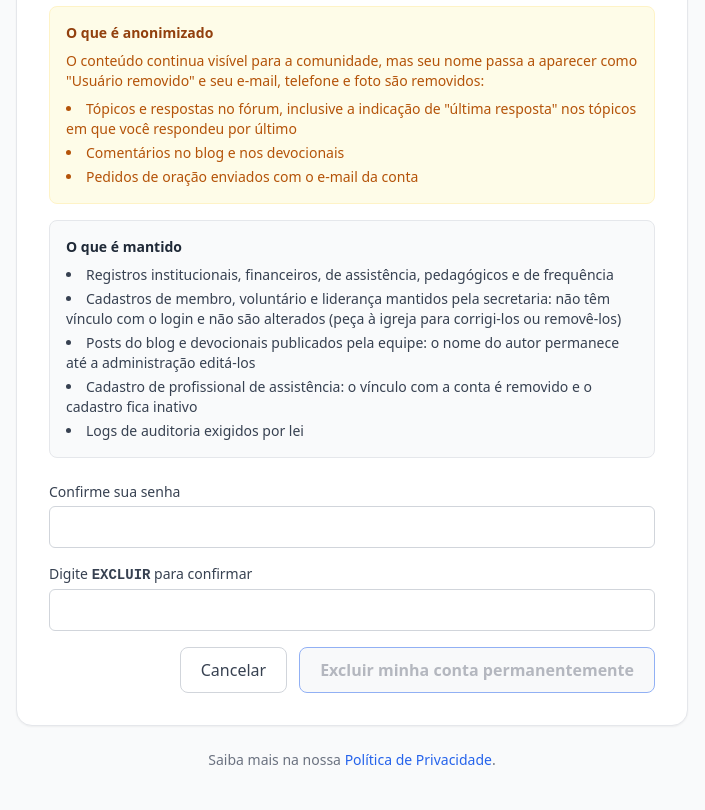
Test: DeleteAccountPage › shows a wrong-password error and does not delete
(page scrolled)
Type "bad" into the password field labelled "Confirme sua senha" at (352, 527), box [49, 506, 655, 548]
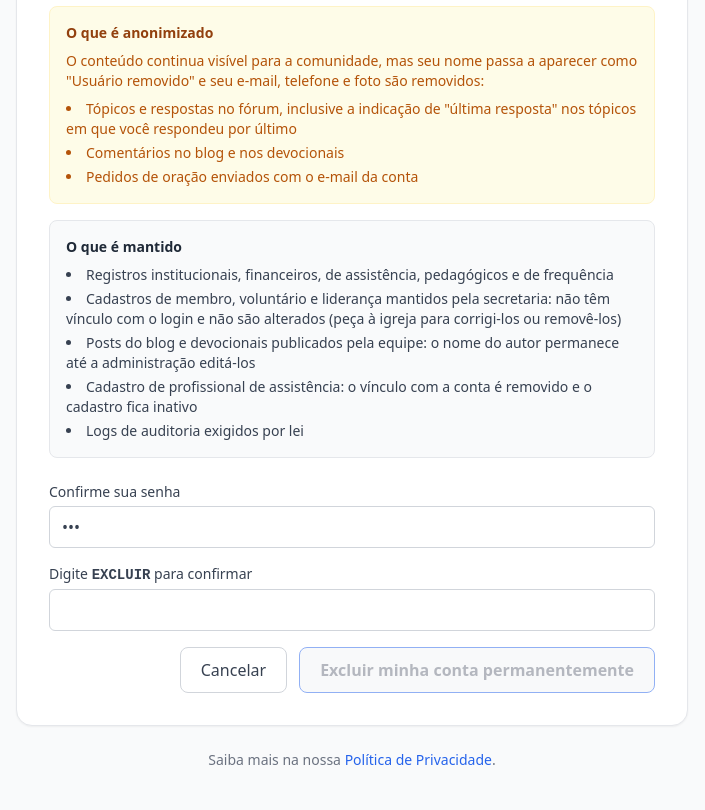
Type "EXCLUIR" into the field labelled "Digite EXCLUIR para confirmar" at (352, 610), box [49, 589, 655, 631]
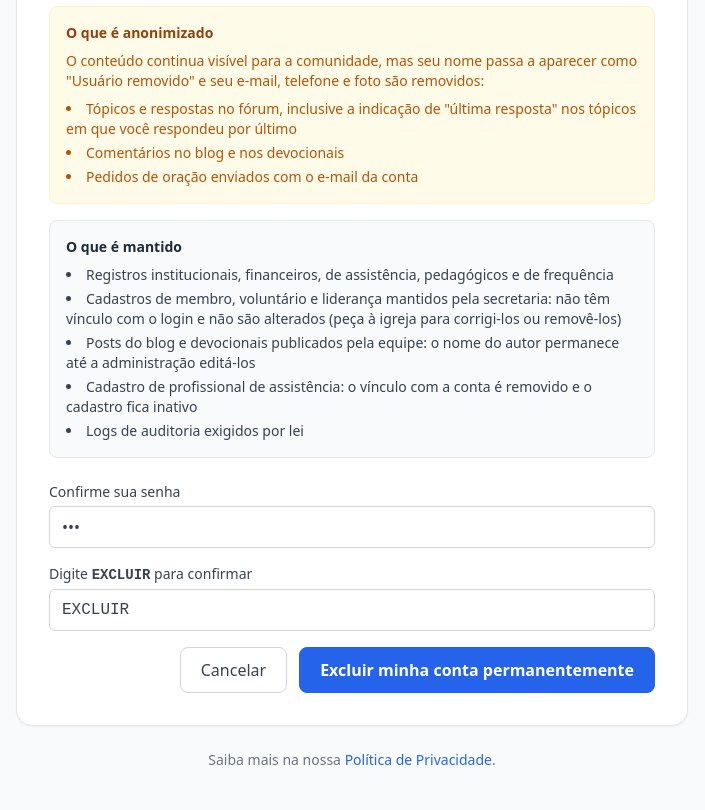
Click the button "Excluir minha conta permanentemente" at (477, 670), box [299, 647, 655, 693]
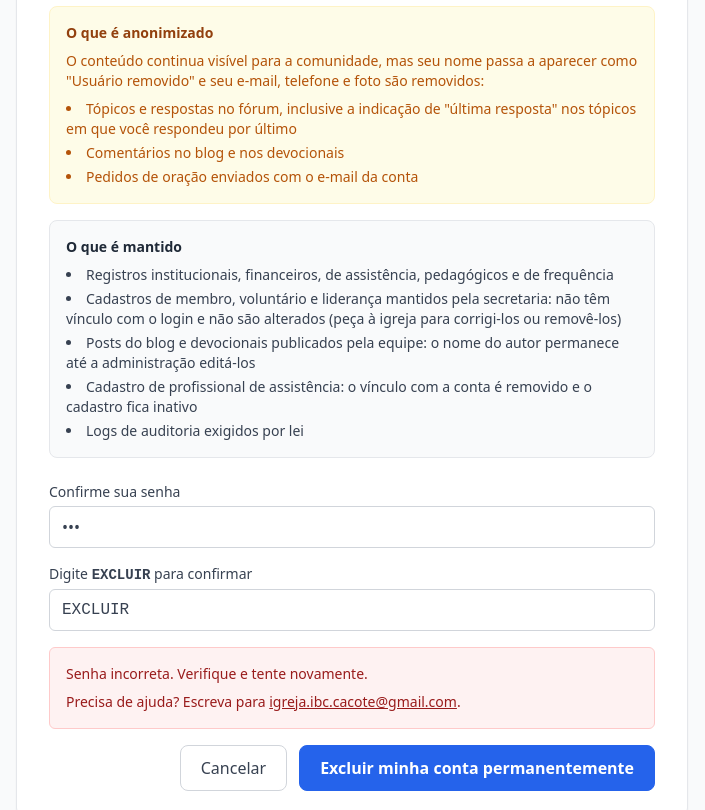
Now the text "Senha incorreta. Verifique e tente novamente." is shown, box [66, 664, 368, 683]
